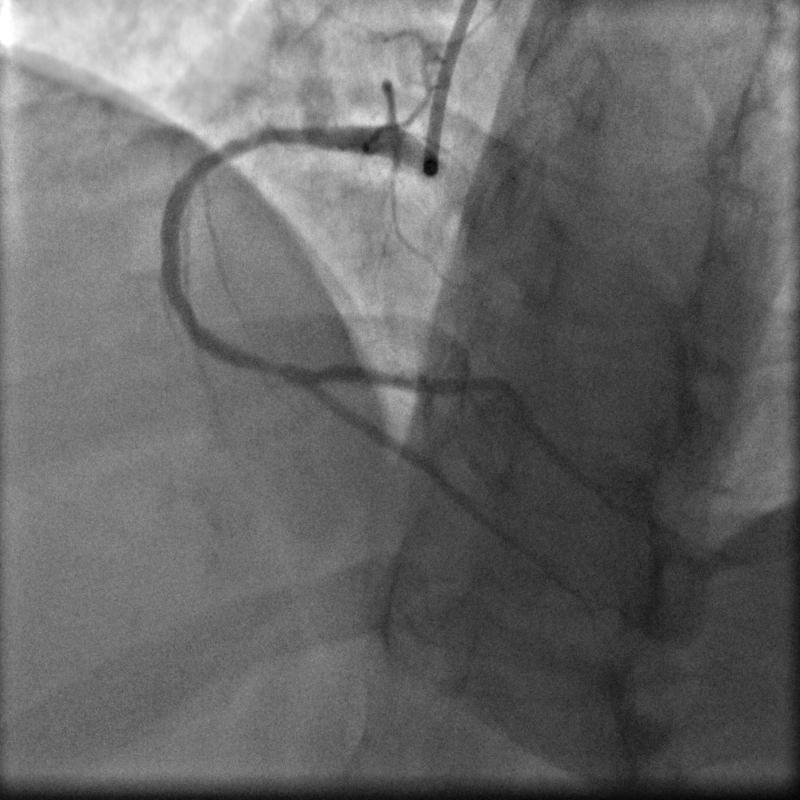Stenosis: (253, 348, 294, 388)
